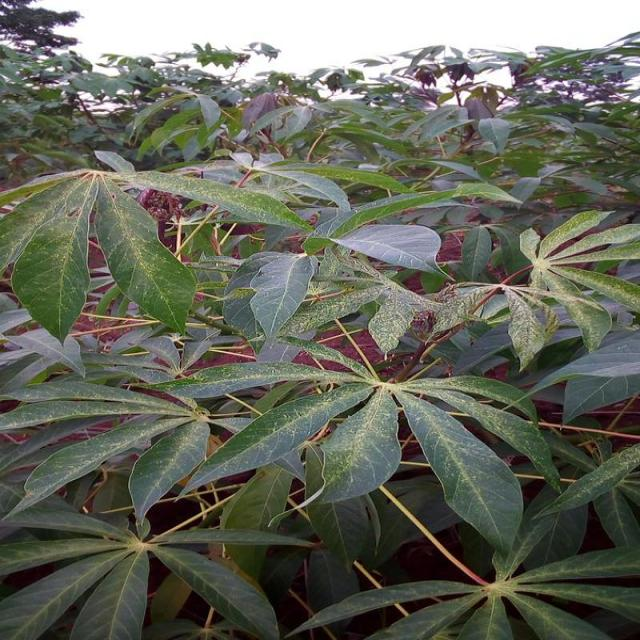cassava leaf: (1, 32, 638, 638), (393, 385, 524, 558), (94, 177, 196, 335)
